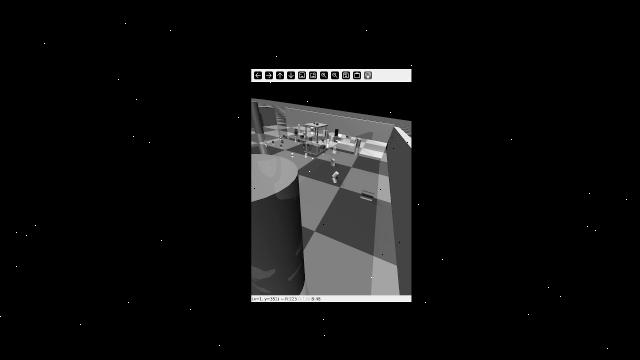cilindro: (250, 154, 301, 295), (252, 100, 265, 133), (362, 188, 375, 201), (328, 169, 343, 180), (356, 138, 361, 147), (297, 122, 301, 131), (334, 129, 338, 137), (263, 140, 267, 145), (326, 139, 330, 144), (280, 140, 284, 144), (294, 127, 298, 131), (309, 147, 312, 152), (308, 132, 310, 138), (321, 150, 325, 153), (287, 135, 290, 139), (327, 134, 329, 139), (294, 137, 296, 142), (298, 138, 300, 142), (318, 122, 320, 124)
cuadrado: (350, 137, 356, 144), (323, 129, 329, 136), (308, 137, 314, 141), (333, 146, 337, 151), (271, 140, 275, 144), (282, 134, 286, 138), (303, 143, 306, 148), (294, 131, 298, 134), (307, 143, 310, 147), (316, 123, 318, 125)
esfera: (336, 133, 344, 139), (309, 126, 315, 130), (304, 153, 309, 157), (279, 143, 283, 147), (290, 152, 294, 156), (321, 137, 324, 142), (279, 136, 283, 139), (303, 131, 306, 134), (336, 139, 338, 142), (313, 122, 316, 124), (316, 141, 319, 143), (345, 135, 347, 137), (347, 136, 349, 137)
rectangulo: (330, 157, 338, 165), (320, 144, 327, 149), (300, 135, 305, 138), (331, 135, 334, 140)
